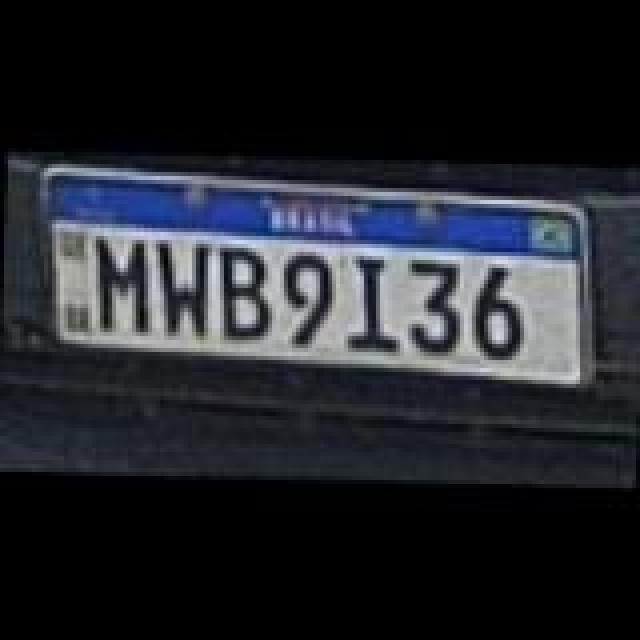3: (396, 256, 468, 356)
6: (462, 262, 530, 362)
9: (276, 254, 340, 350)
B: (208, 242, 280, 342)
I: (340, 254, 404, 354)
M: (84, 234, 160, 338)
W: (148, 240, 220, 340)
